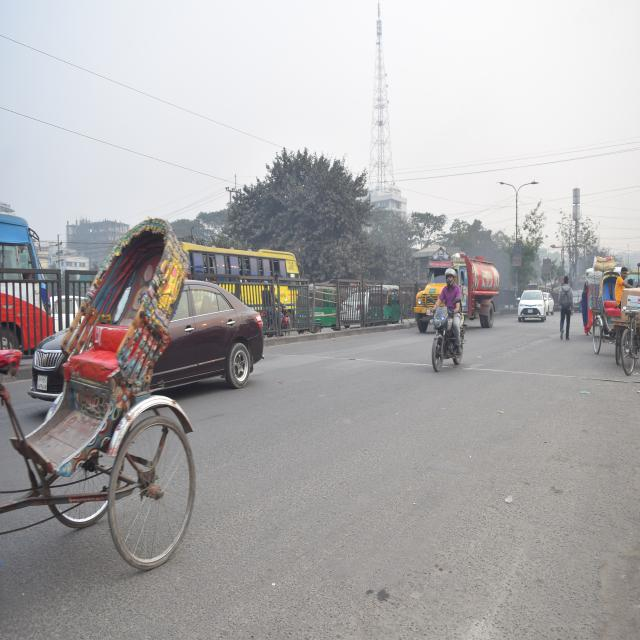car: (6, 275, 283, 395), (515, 276, 551, 342)
motorbike: (427, 314, 488, 386)
truck: (399, 244, 506, 319)
